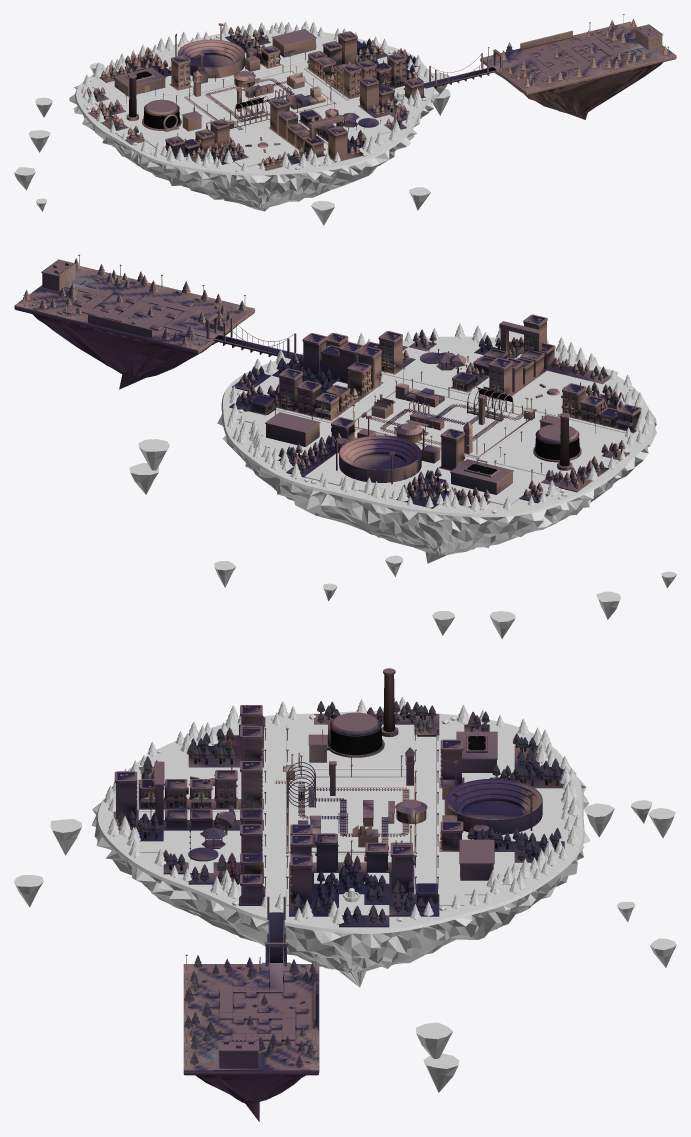
Rendered from city.glb.
3 views of the same model, one above another, from view 1: azimuth 30°, elevation 25°; view 2: azimuth 150°, elevation 25°; view 3: azimuth 270°, elevation 25° (orthographic). The views are drawn at different scales.
Visible parts, largest first — view 1: lm_struct, lm_ground, lm_nature; view 2: lm_struct, lm_ground, lm_nature; view 3: lm_struct, lm_ground, lm_nature.
Boxes of the visible parts, box(x1,y1,x2,y2) form: lm_struct: box(86, 14, 676, 170); lm_ground: box(76, 30, 433, 173); lm_nature: box(14, 20, 450, 225); lm_struct: box(14, 254, 641, 509); lm_ground: box(223, 336, 653, 514); lm_nature: box(129, 323, 676, 638); lm_struct: box(113, 668, 564, 1121); lm_ground: box(97, 710, 583, 930); lm_nature: box(14, 696, 676, 1092).
Bounding box in the file's own units: 228 × 60.86 × 159.
